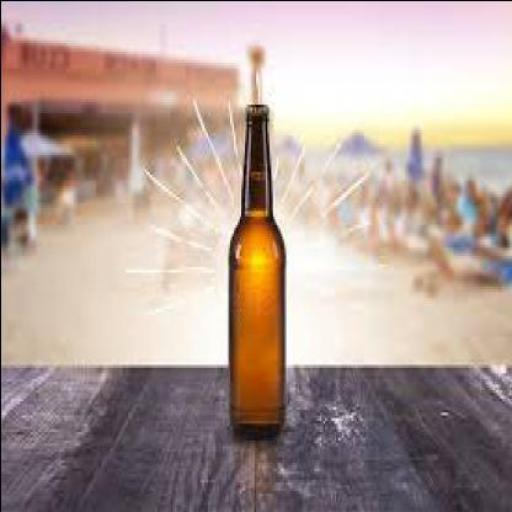glass: (230, 109, 288, 431)
metal: (248, 100, 270, 109)
